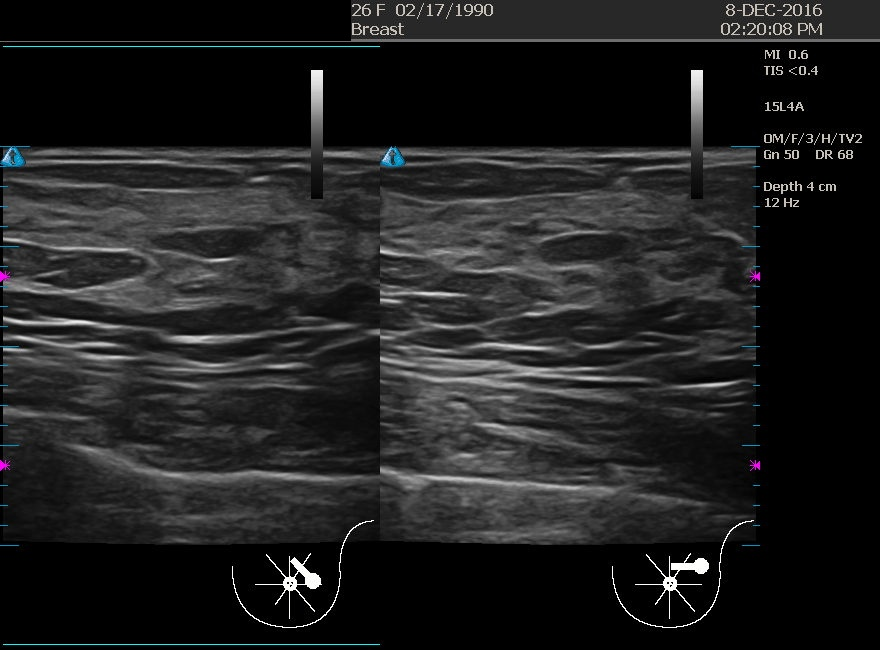BIRADS_2: (518, 204, 718, 404)
BIRADS_3: (137, 204, 338, 404)
